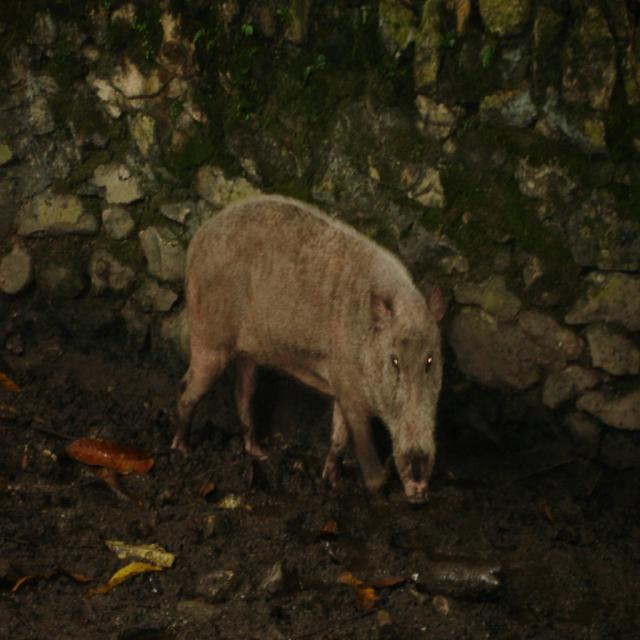Pig: (172, 192, 452, 508)
